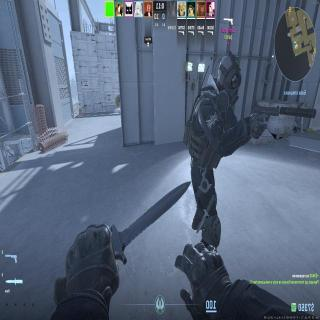CT-Body: (188, 52, 246, 240)
CT-Head: (220, 54, 240, 96)
